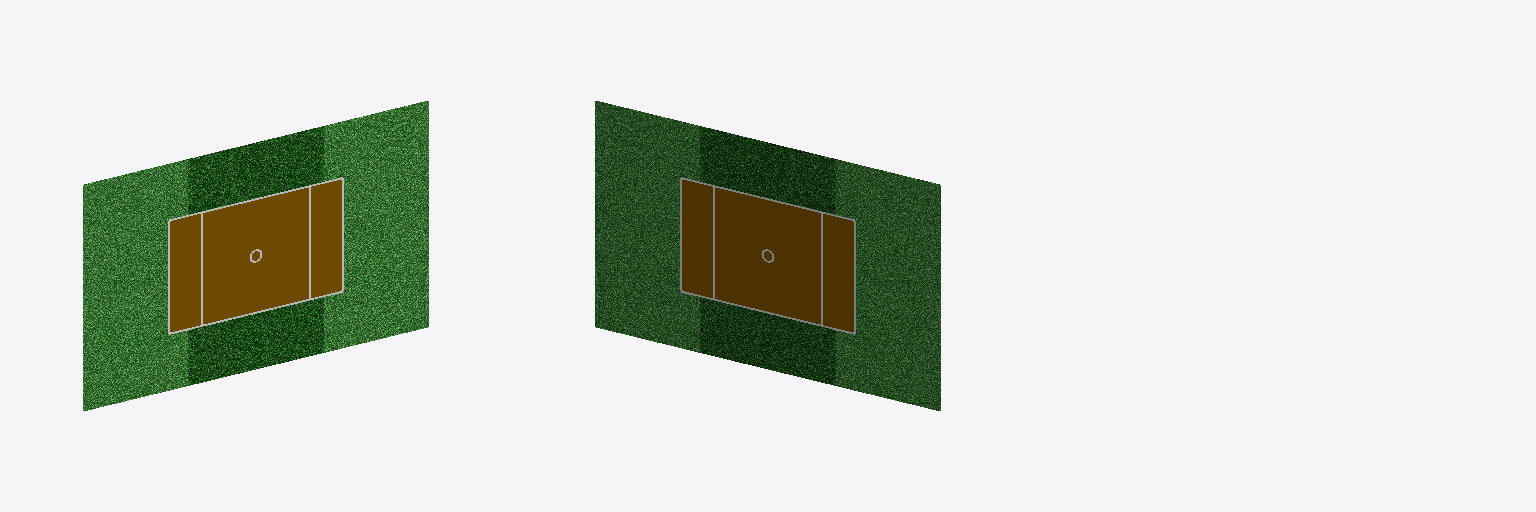
3 views of the same model, side by side, from view 1: azimuth 30°, elevation 25°; view 2: azimuth 150°, elevation 25°; view 3: azimuth 270°, elevation 25° (orthographic).
Parts seen in each view (by area): view 1: stadium_grass, stadium_dirt, stadium_white; view 2: stadium_grass, stadium_dirt, stadium_white; view 3: none.
Part boxes in pixels (left/top/right/bottom): stadium_grass: left=83, top=101, right=428, bottom=410; stadium_dirt: left=170, top=180, right=341, bottom=331; stadium_white: left=168, top=177, right=343, bottom=334; stadium_grass: left=595, top=101, right=940, bottom=410; stadium_dirt: left=682, top=180, right=853, bottom=331; stadium_white: left=680, top=177, right=855, bottom=334.
Bounding box in the file's own units: 6.4 × 4 × 0.
Materials: 3 (1 with a texture image).